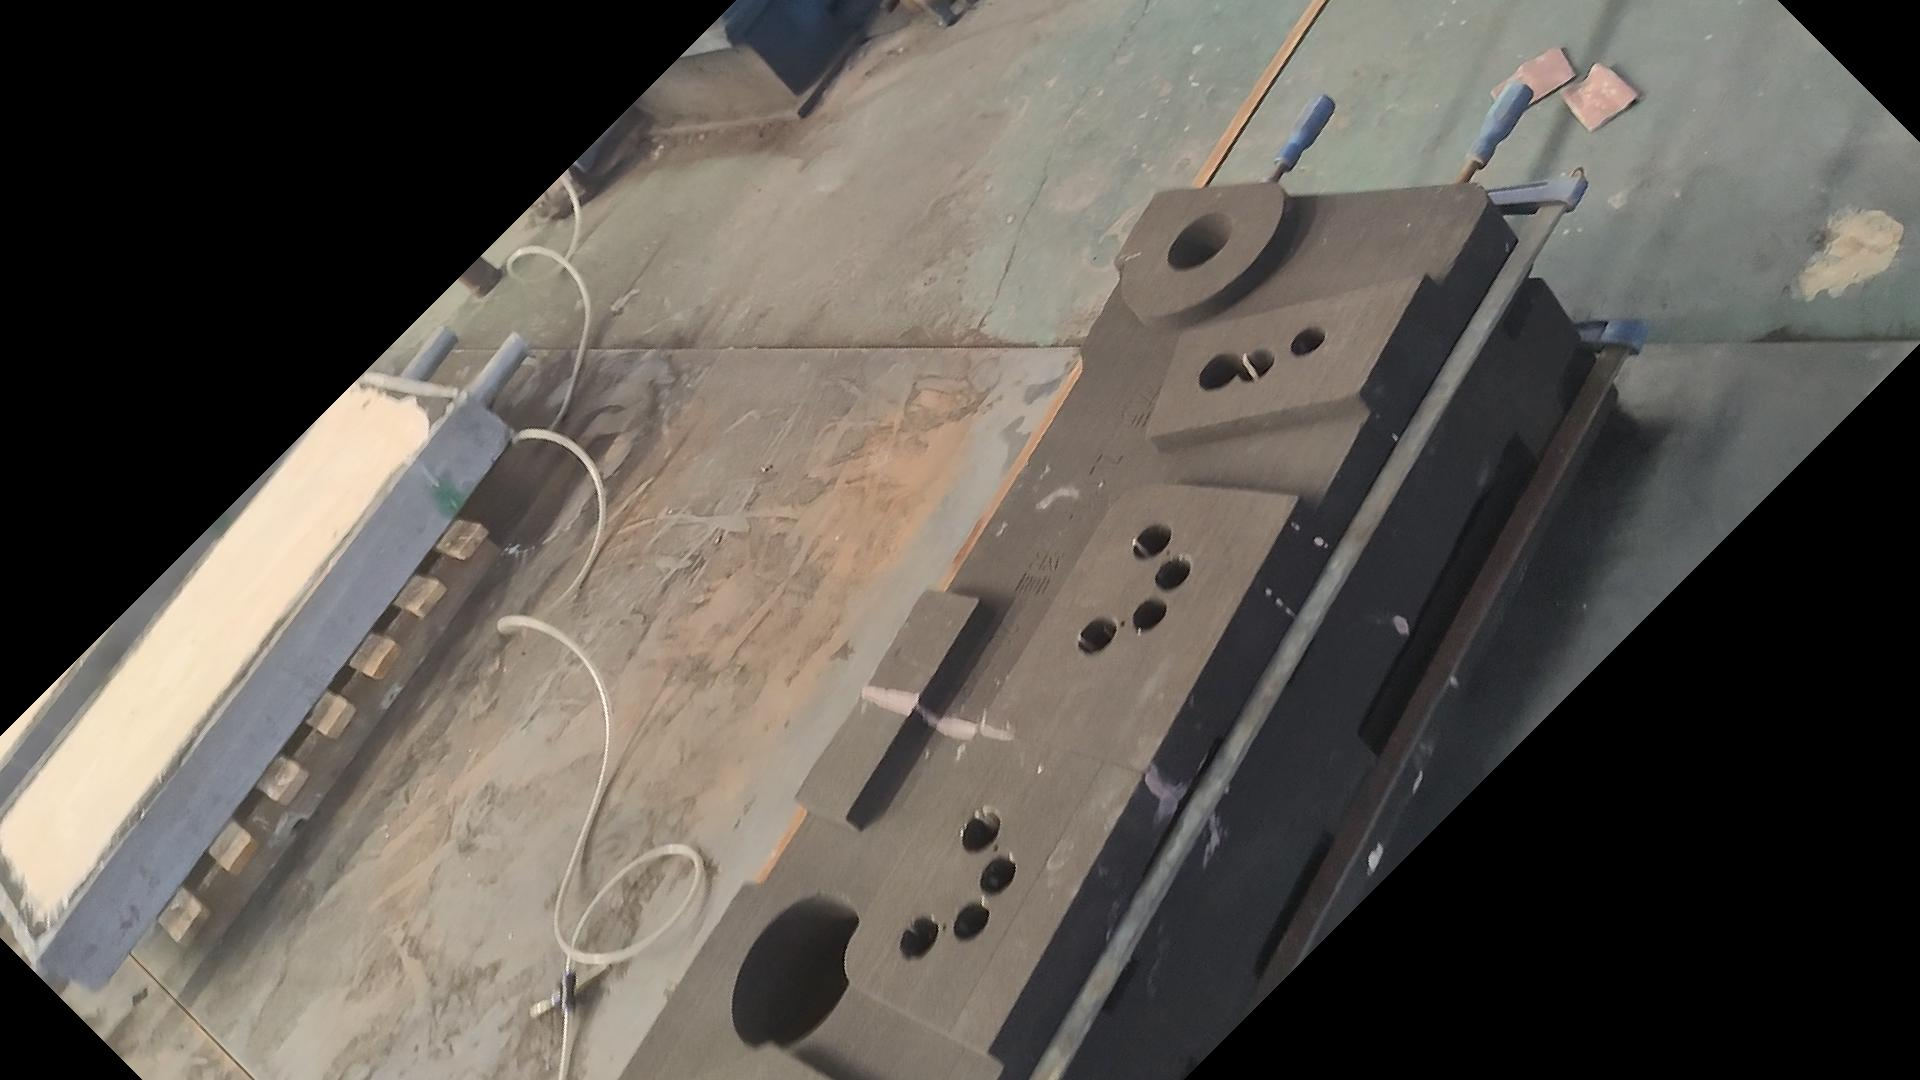pouring hole: (1164, 211, 1234, 273)
